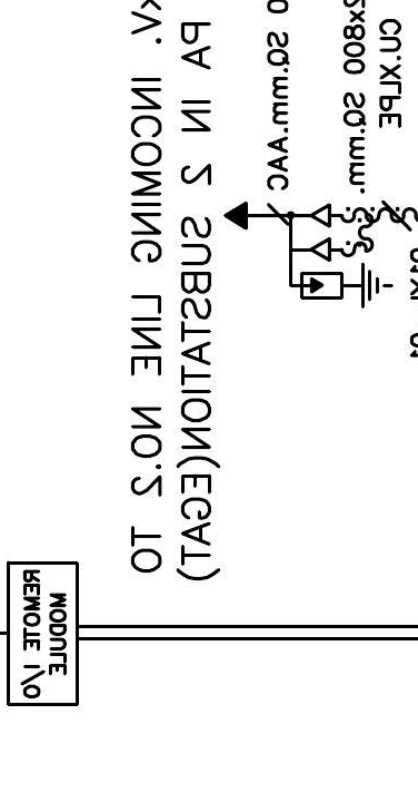115_la: (300, 262, 395, 309)
remote_io_module: (6, 561, 79, 707)
terminator_double: (288, 202, 332, 263)
